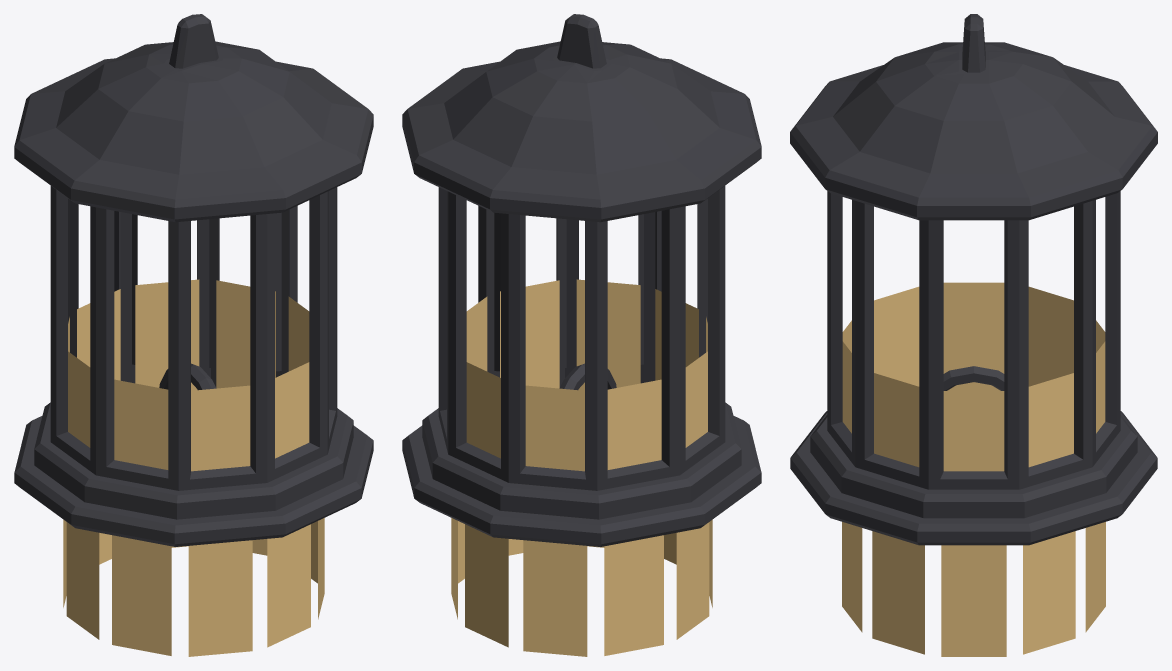
The model's file is Lantern_2.glb.
3 renders of one model, left to right at view 1: azimuth 30°, elevation 25°; view 2: azimuth 150°, elevation 25°; view 3: azimuth 270°, elevation 25°, orthographic.
Size of the model in its own units: 15.85 by 29.28 by 16.67.
1 material, 1 textured.
